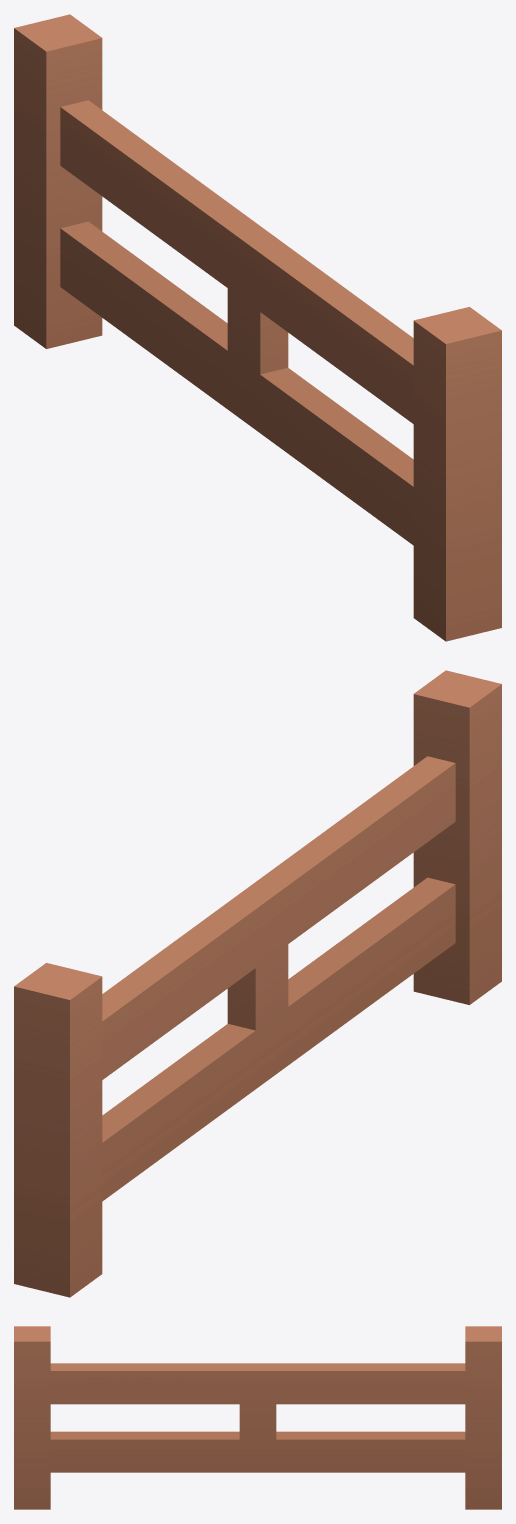
File: fence.fbx
3 views of the same model, one above another, from view 1: azimuth 30°, elevation 25°; view 2: azimuth 150°, elevation 25°; view 3: azimuth 270°, elevation 25° (orthographic). The views are drawn at different scales.
Visible parts, largest first — view 1: fence; view 2: fence; view 3: fence.
Part boxes in pixels (x1,y1,x2,y2): fence: [14, 14, 501, 641]; fence: [14, 670, 501, 1297]; fence: [14, 1326, 501, 1509].
Size of the model in its own units: 7.5 by 38 by 100.
Materials: 1 (1 with a texture image).
